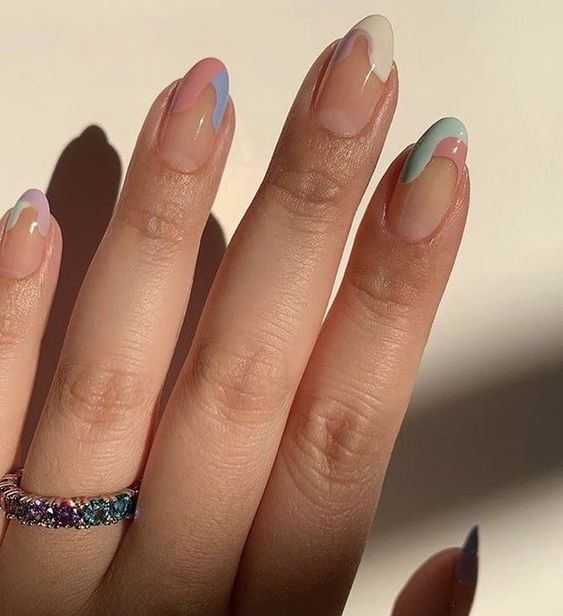nails: (382, 113, 478, 249), (310, 10, 397, 140), (156, 52, 232, 178), (1, 184, 54, 283), (445, 516, 485, 616)
